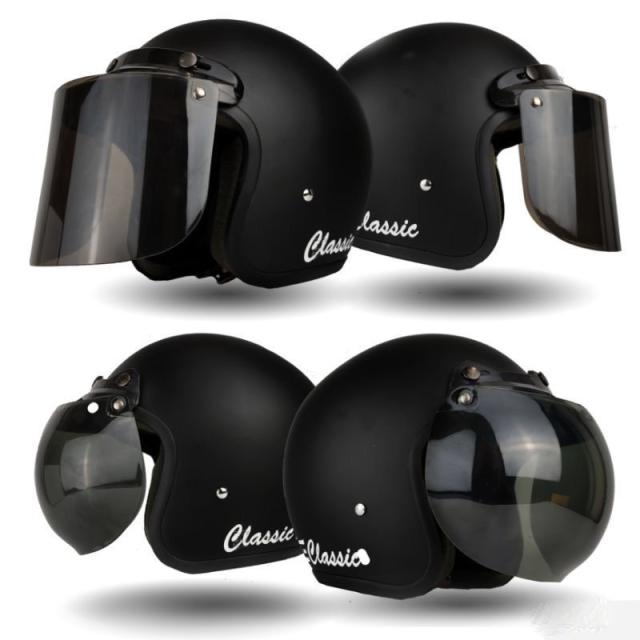Helm: (27, 11, 371, 284), (278, 326, 615, 598), (338, 16, 621, 279), (35, 330, 322, 578)
